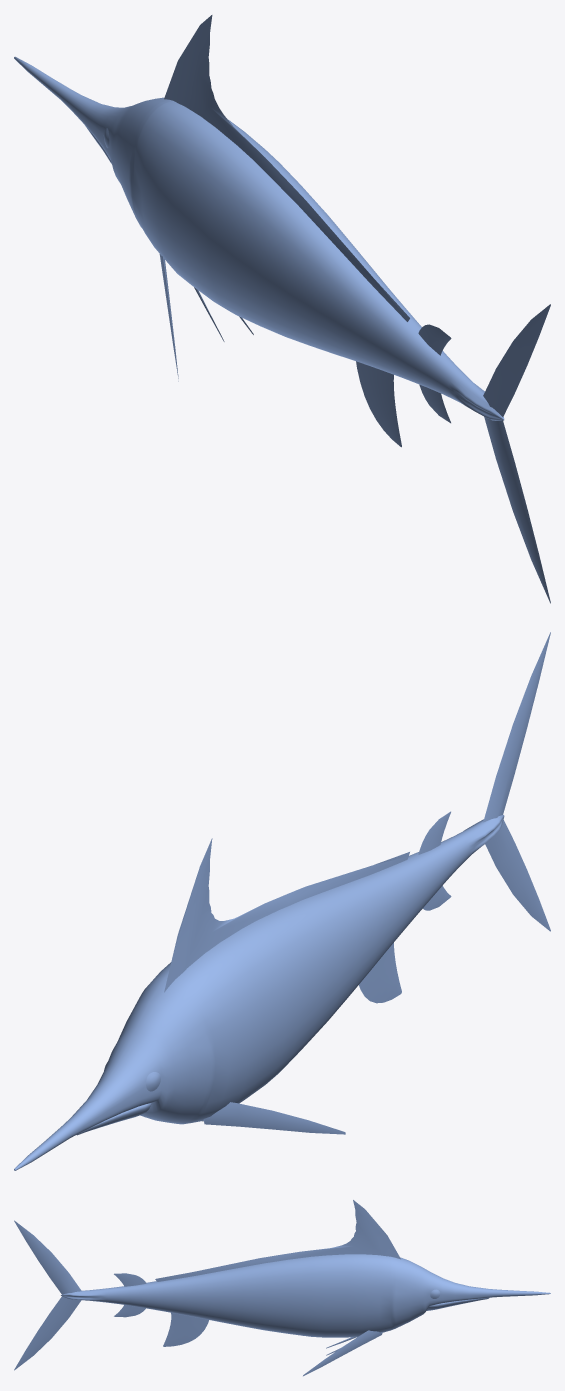
Rendered from blue_marlin_game.glb.
The picture shows the model from 3 angles, top to bottom: view 1: azimuth 30°, elevation 25°; view 2: azimuth 150°, elevation 25°; view 3: azimuth 270°, elevation 25°; orthographic projection. The views are drawn at different scales.
Parts seen in each view (by area): view 1: blue_marlin_game; view 2: blue_marlin_game; view 3: blue_marlin_game.
Boxes of the visible parts, bbox=[...] form: blue_marlin_game: bbox=[14, 15, 550, 603]; blue_marlin_game: bbox=[14, 632, 550, 1170]; blue_marlin_game: bbox=[14, 1200, 550, 1376].
Bounding box in the file's own units: 0.6439 × 1.26 × 3.6.
